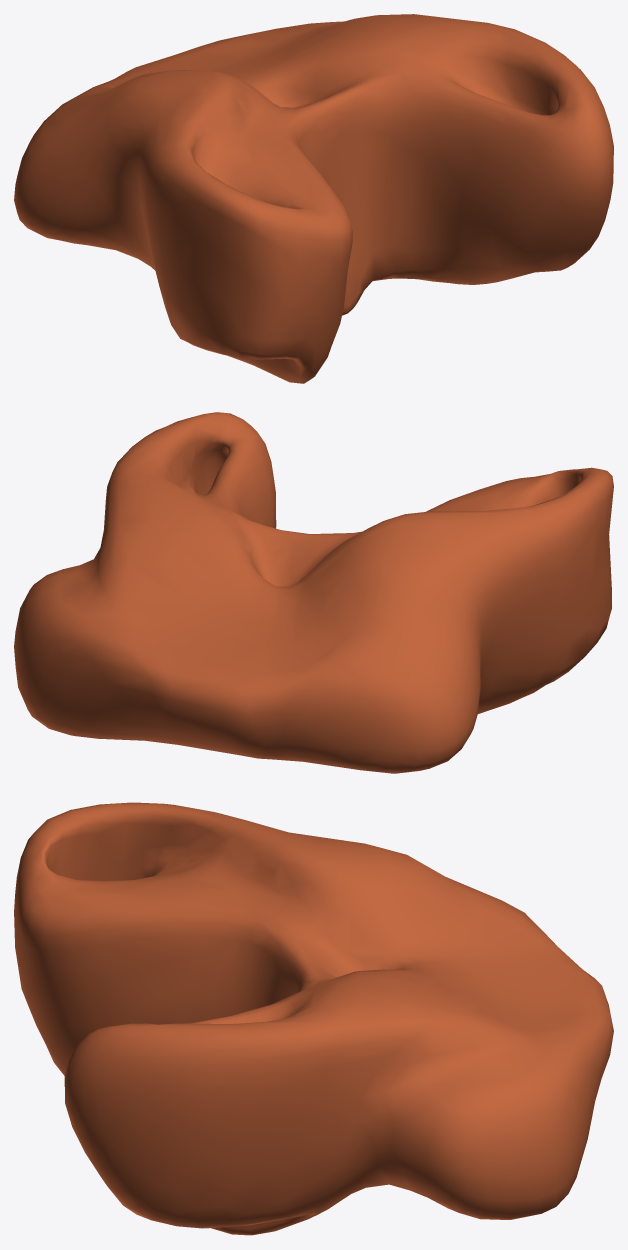
File: Lever.fbx
3 views of the same model, one above another, from view 1: azimuth 30°, elevation 25°; view 2: azimuth 150°, elevation 25°; view 3: azimuth 270°, elevation 25° (orthographic). The views are drawn at different scales.
Visible parts, largest first — view 1: Hepatic_diverticulum; view 2: Hepatic_diverticulum; view 3: Hepatic_diverticulum.
Boxes of the visible parts, x1,y1,x2,y2 form: Hepatic_diverticulum: (14,14,613,383); Hepatic_diverticulum: (14,412,613,773); Hepatic_diverticulum: (14,802,613,1235).
Size of the model in its own units: 7.38 by 4 by 7.71.
